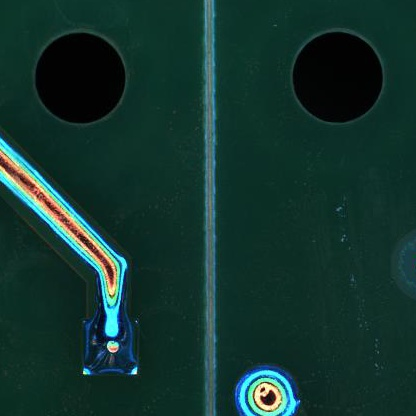spot: (81, 315, 139, 377), (233, 366, 299, 415)
